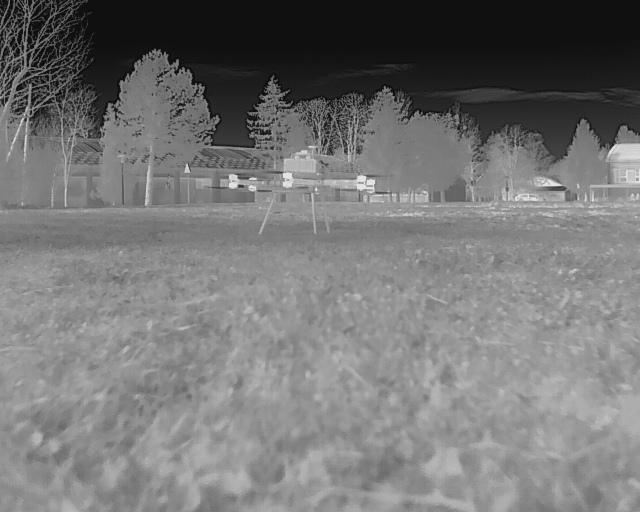drone: (214, 137, 392, 247)
